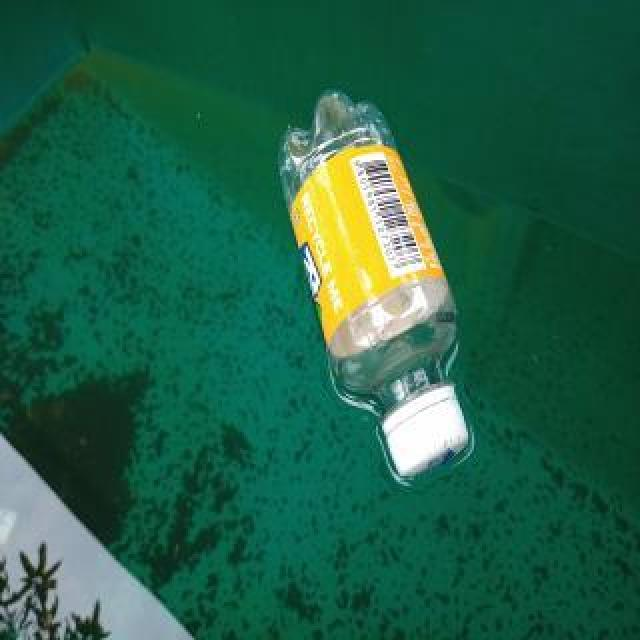bottle: (273, 82, 471, 490)
